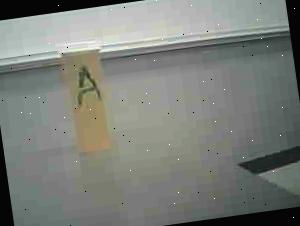Bottle A: (49, 29, 128, 166)
